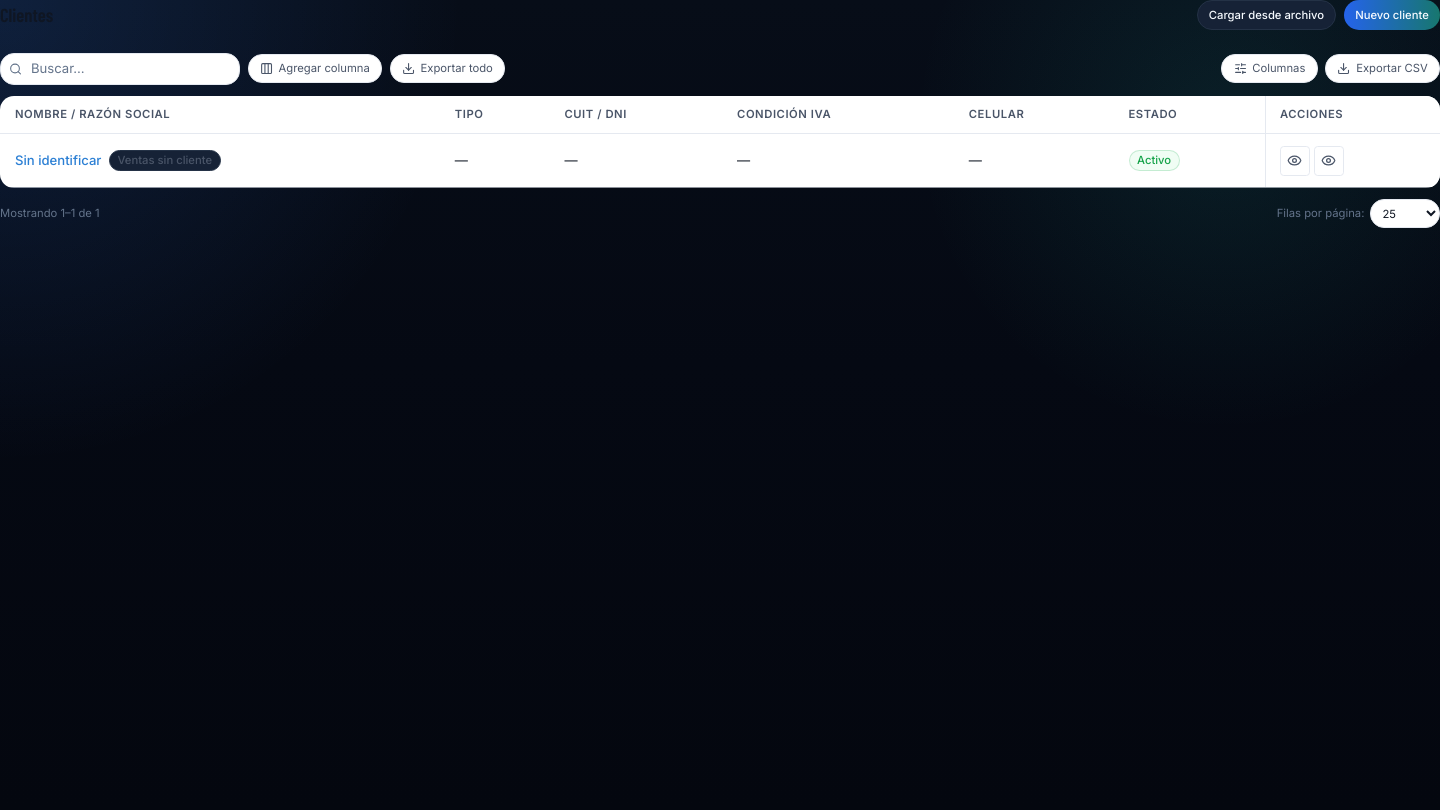
Todos los datos: customers › permite consultar campos históricos ocultos incluso en el centinela, sin habilitar edición
The image size is (1440, 810).
expect the text "Entrega únicamente los martes" is not shown: met
Click the button named "Todos los datos del cliente": (1295, 160) [1280, 146, 1310, 176]
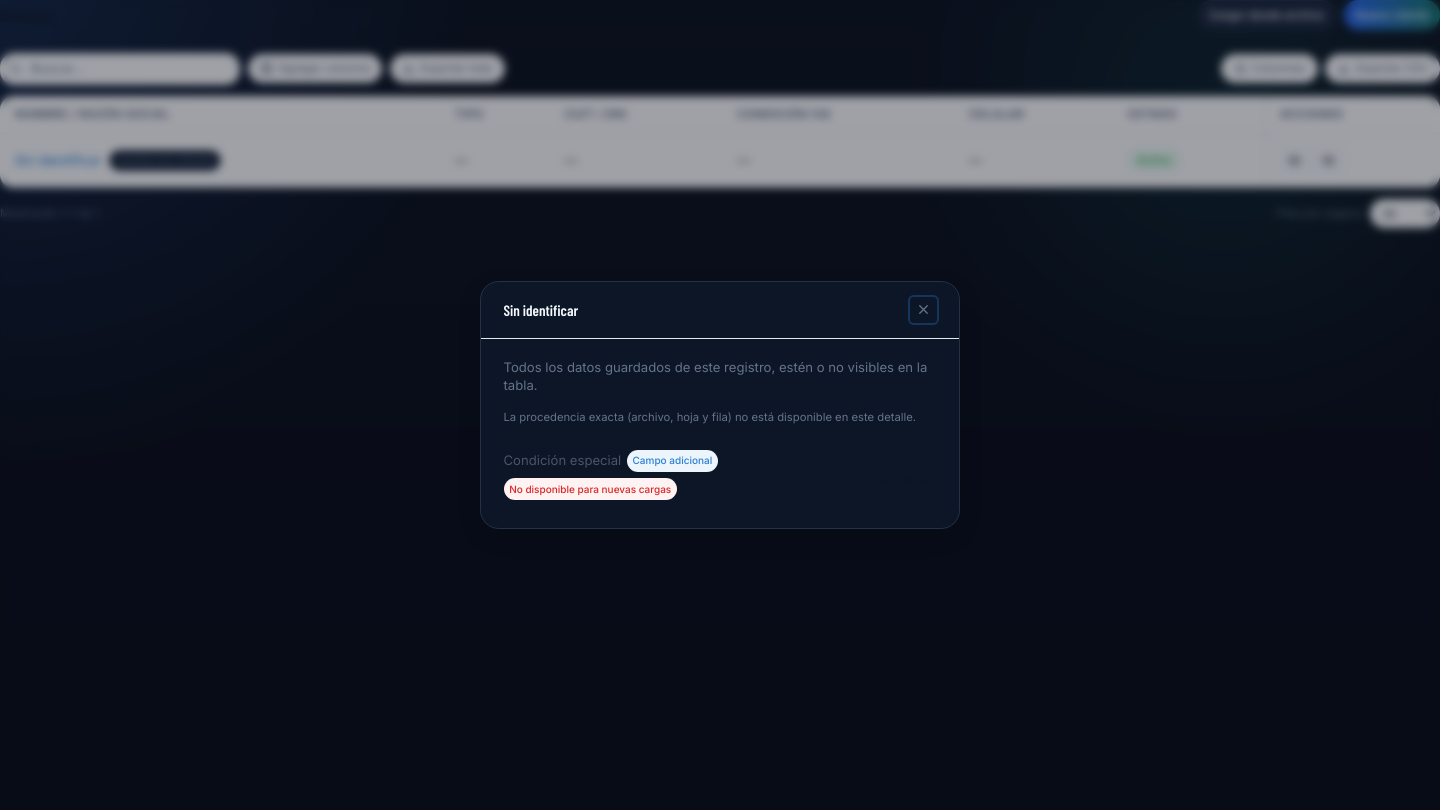
expect the text "No disponible para nuevas cargas" is shown: met, box [504, 478, 677, 500]
